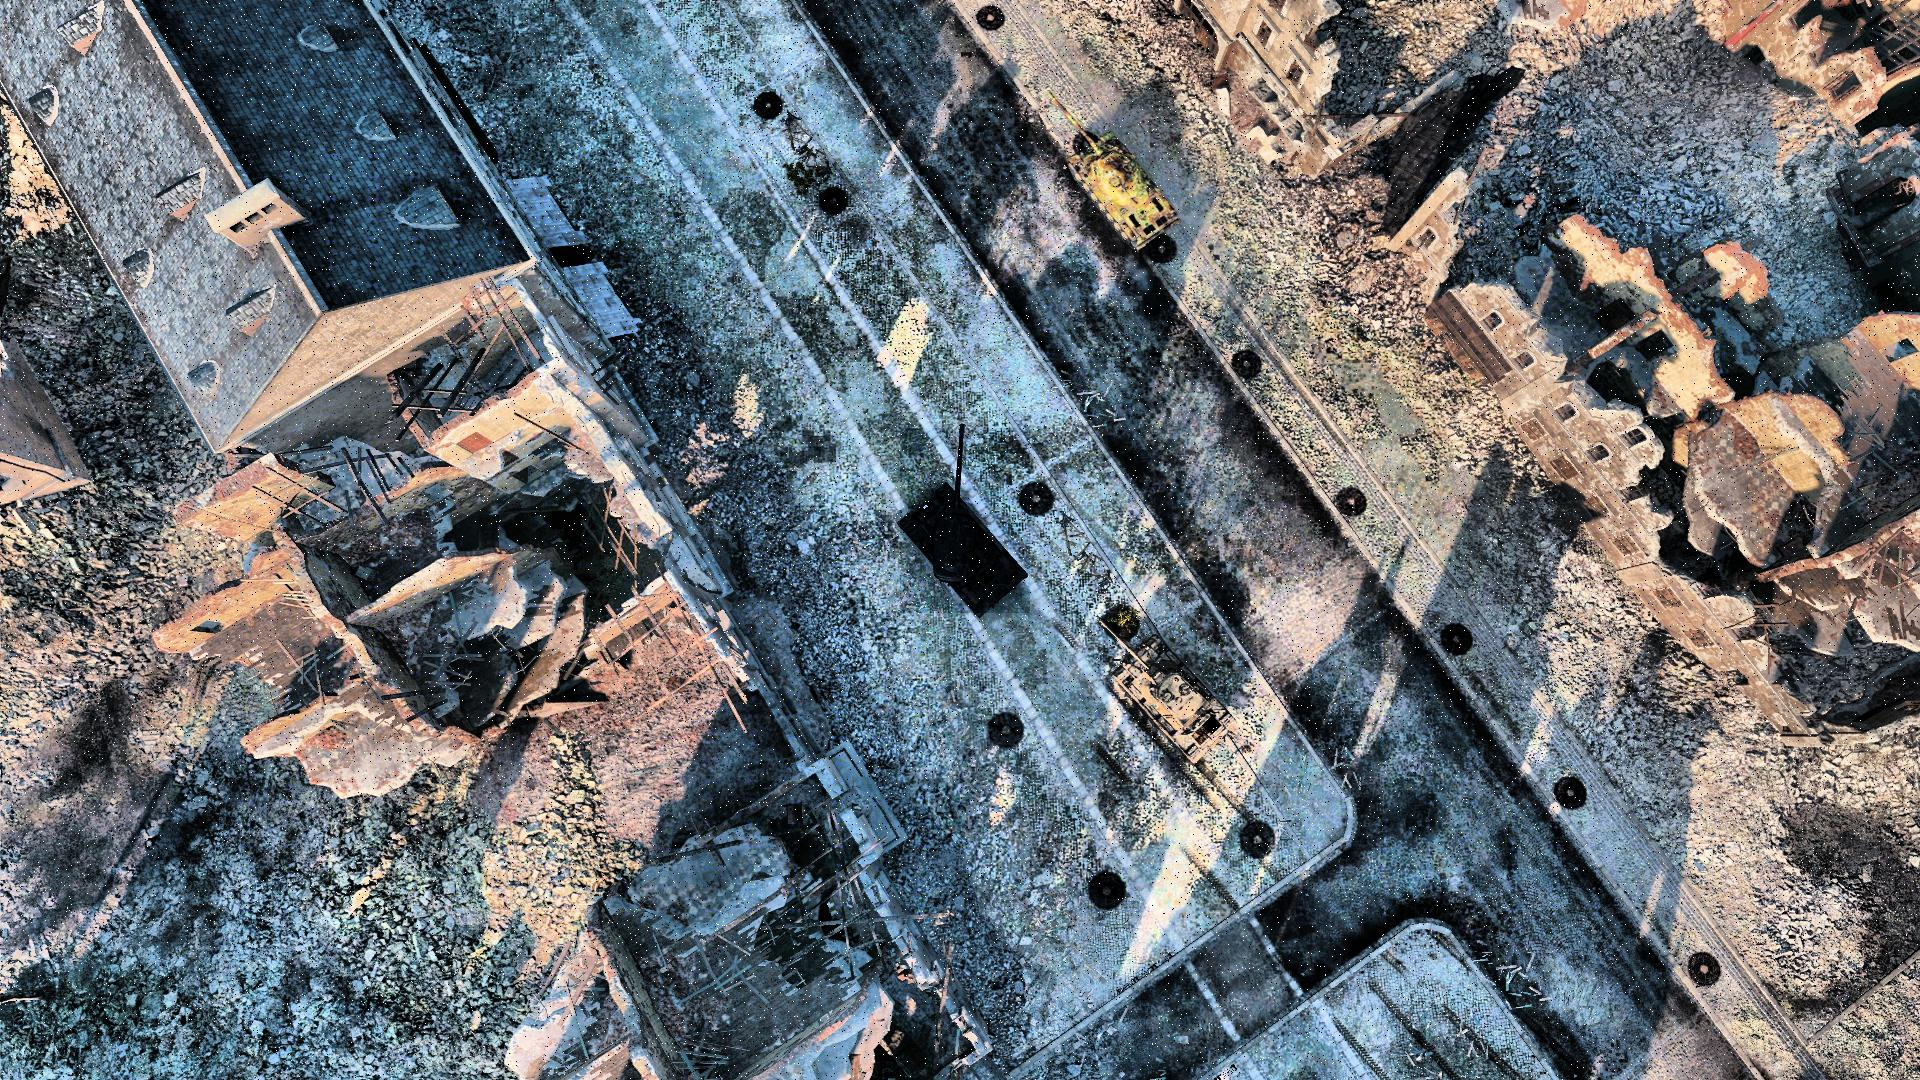military-vehicle: (899, 429, 1030, 613), (1098, 615, 1232, 764), (1056, 105, 1178, 252)
